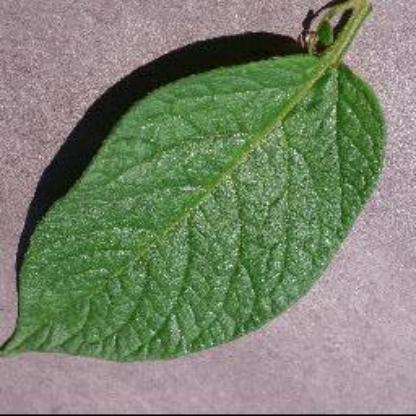Healthy-plant: (8, 17, 382, 374)
